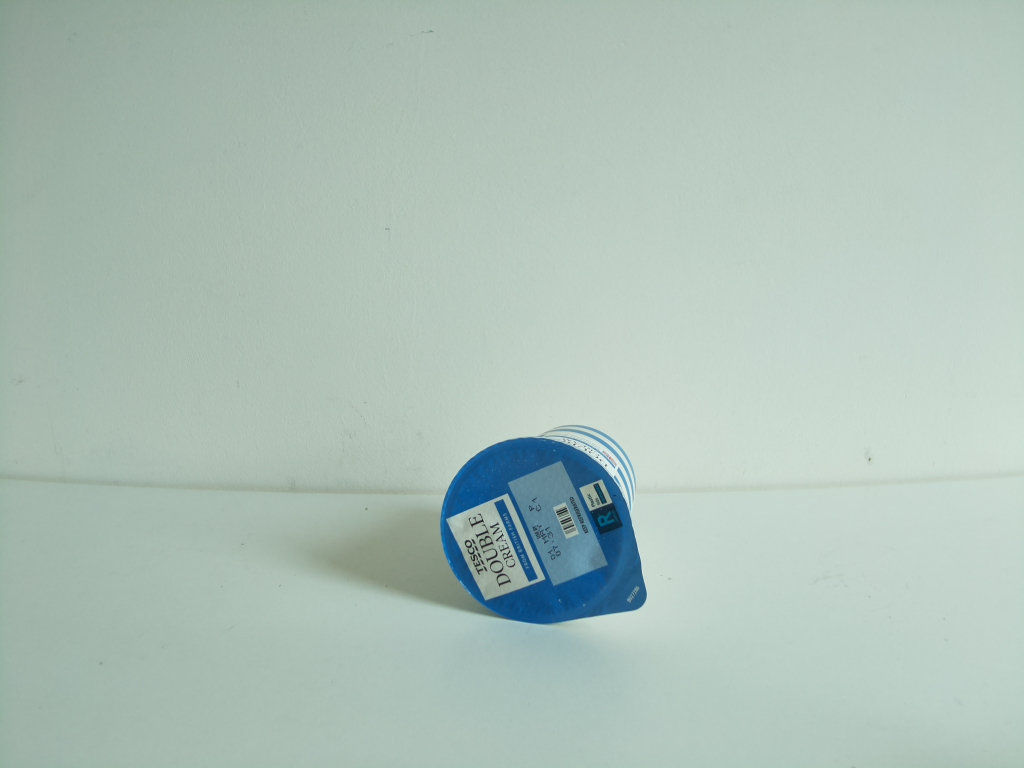cream: (438, 421, 652, 624)
